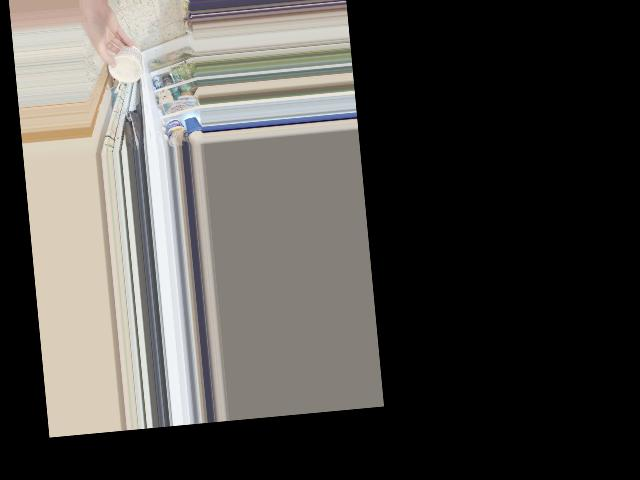cotage: (110, 47, 142, 84)
